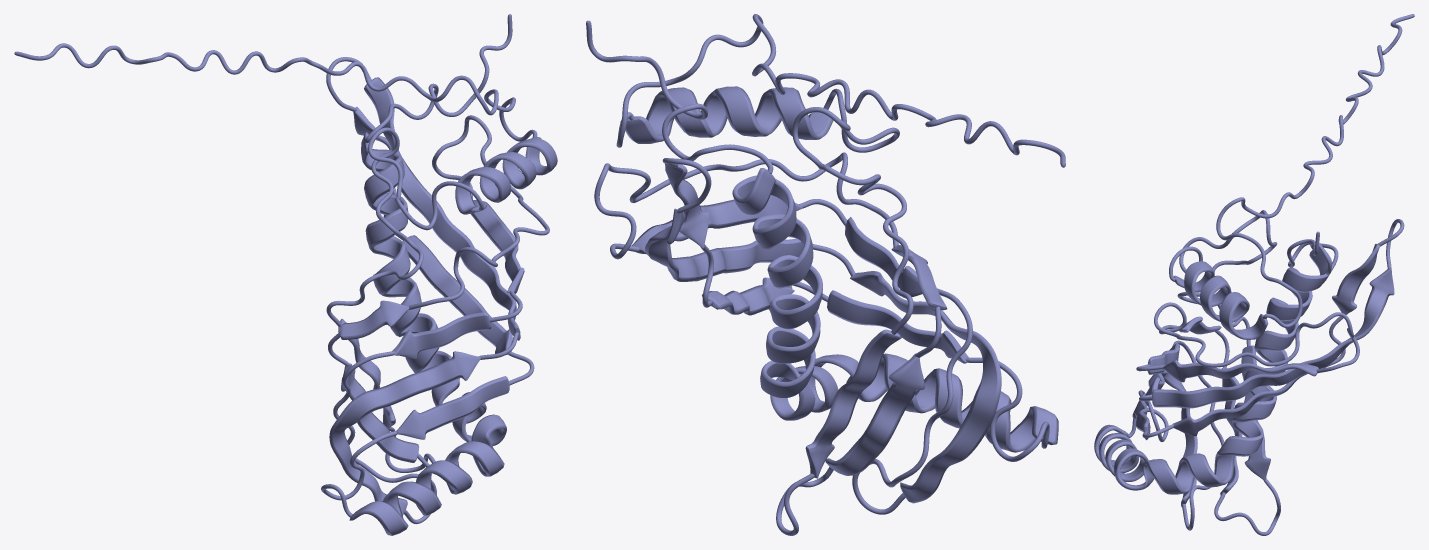
The model's file is Single-domain.glb.
3 renders of one model, left to right at view 1: azimuth 30°, elevation 25°; view 2: azimuth 150°, elevation 25°; view 3: azimuth 270°, elevation 25°, orthographic. The views are drawn at different scales.
Parts seen in each view (by area): view 1: Single domain.001; view 2: Single domain.001; view 3: Single domain.001.
Part boxes in pixels (x1,y1,x2,y2): Single domain.001: [14, 14, 557, 535]; Single domain.001: [586, 14, 1065, 535]; Single domain.001: [1094, 14, 1414, 535].
Bounding box in the file's own units: 1.29 × 1.25 × 0.9122.
